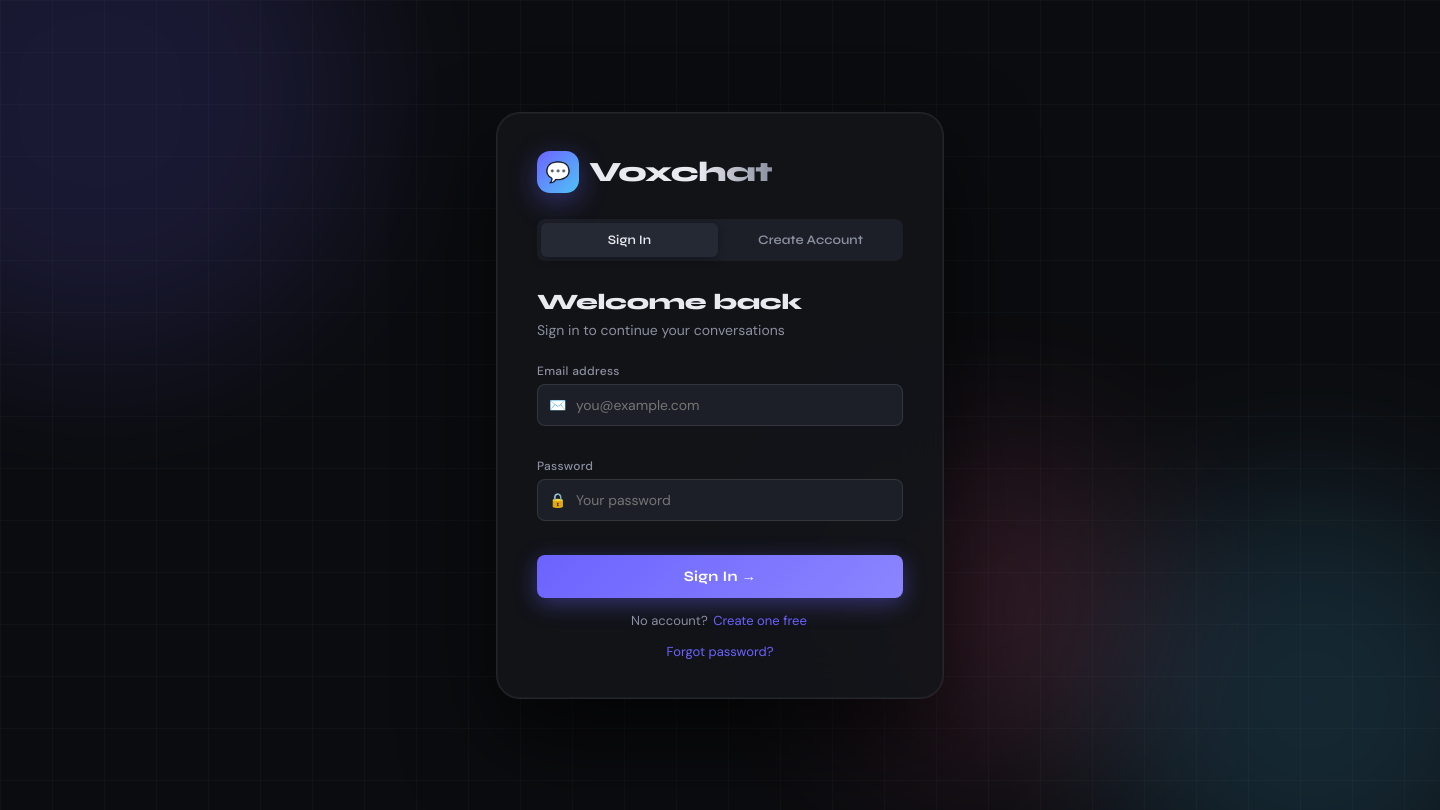
Test: AuthPage › shows validation error for invalid email
Type "user@example" into the field labelled "Email address" at (720, 404), box [537,384,903,426]
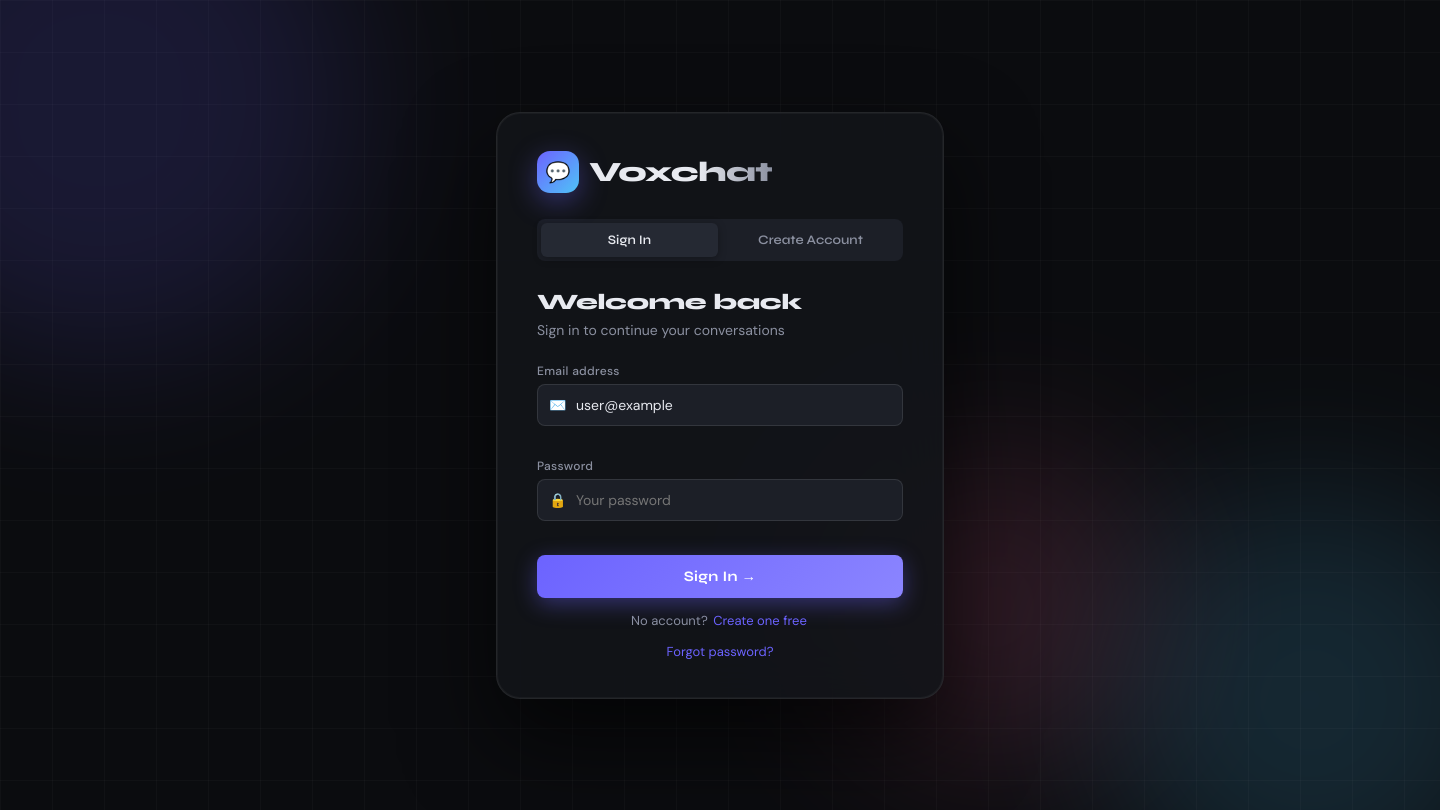
Type "password123" into the password field labelled "Password" at (720, 500), box [537,478,903,520]
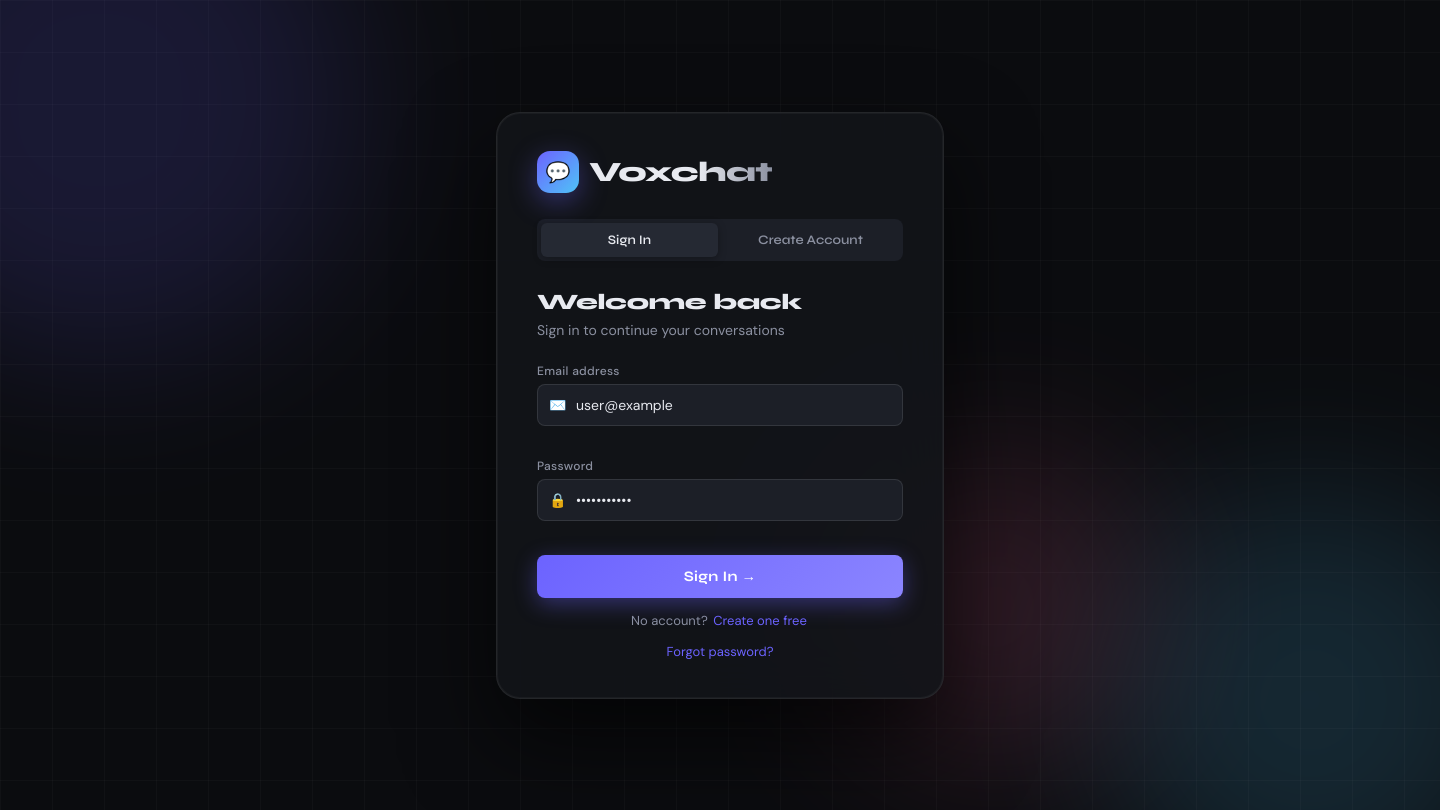
Click the button "Sign In →" at (720, 576), box [537,554,903,598]
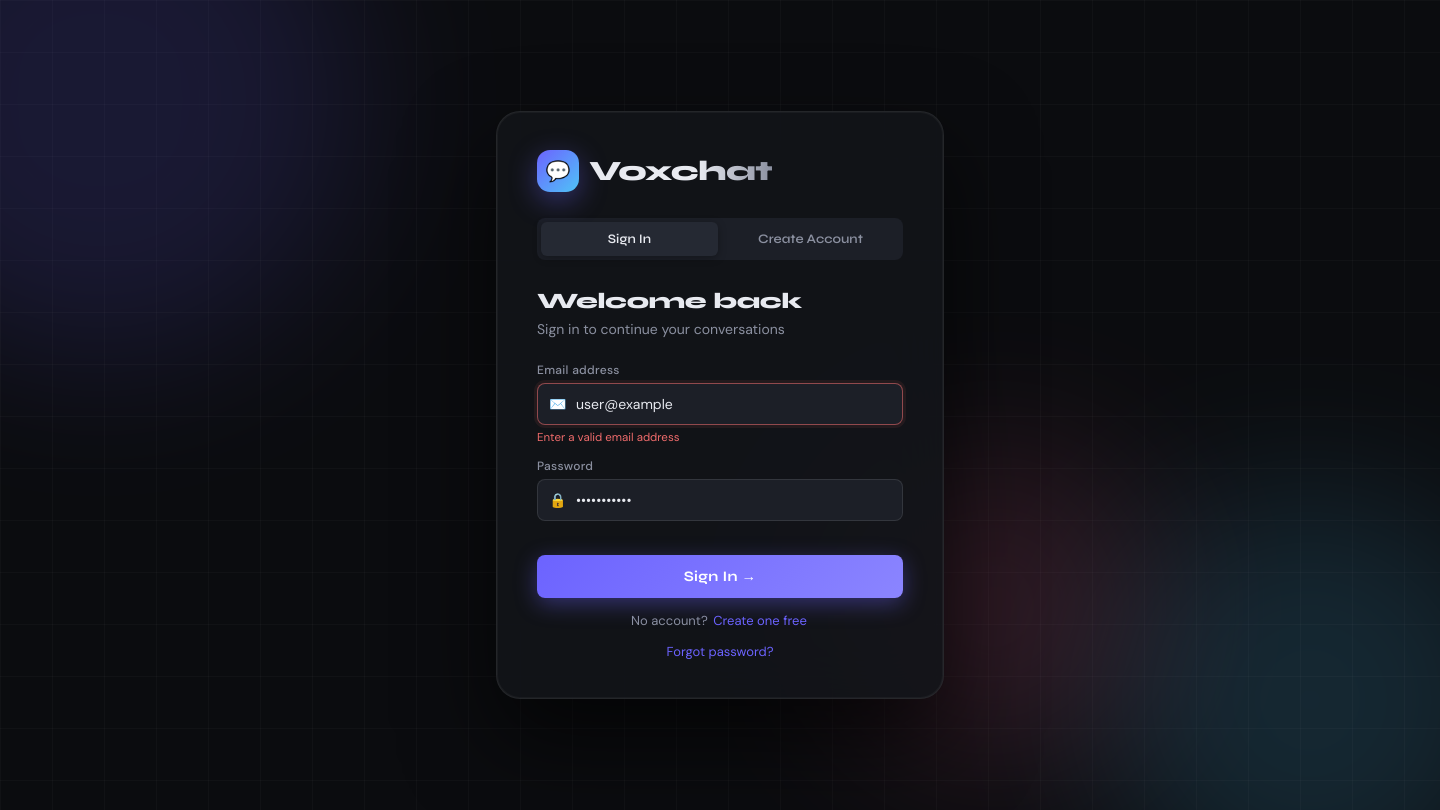
Expected: the text "Enter a valid email address" is shown, [537,430,680,445]
